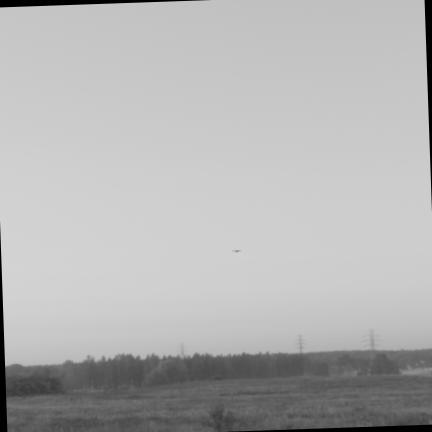Shahed: (232, 250, 241, 252)
